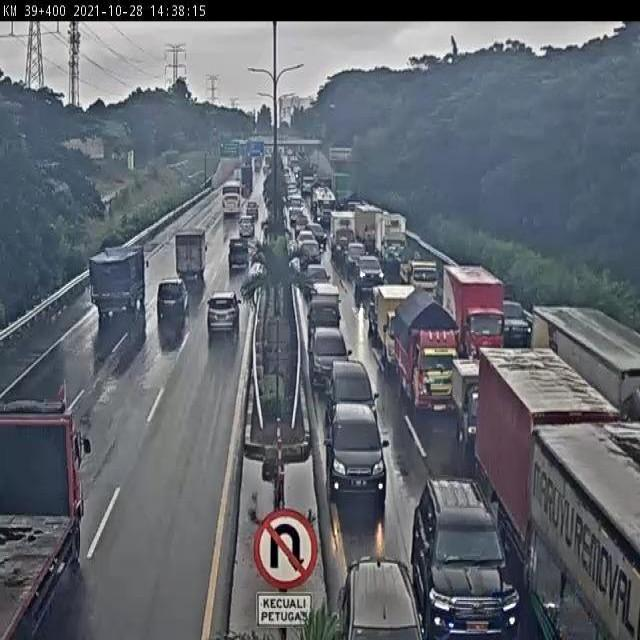big bus: (214, 177, 244, 224)
big truck: (479, 345, 640, 640), (20, 404, 103, 640), (524, 300, 640, 431), (399, 290, 464, 406), (439, 257, 505, 363), (78, 237, 151, 327), (379, 287, 422, 373), (165, 222, 213, 294), (396, 248, 435, 295)
car: (416, 467, 510, 637), (344, 540, 417, 640), (325, 397, 390, 496), (326, 351, 378, 425), (309, 317, 353, 384), (204, 286, 250, 342), (149, 273, 189, 332), (305, 298, 350, 346), (355, 252, 383, 287), (233, 219, 259, 253), (239, 200, 263, 236)
small truck: (454, 358, 509, 446), (222, 234, 254, 282)
